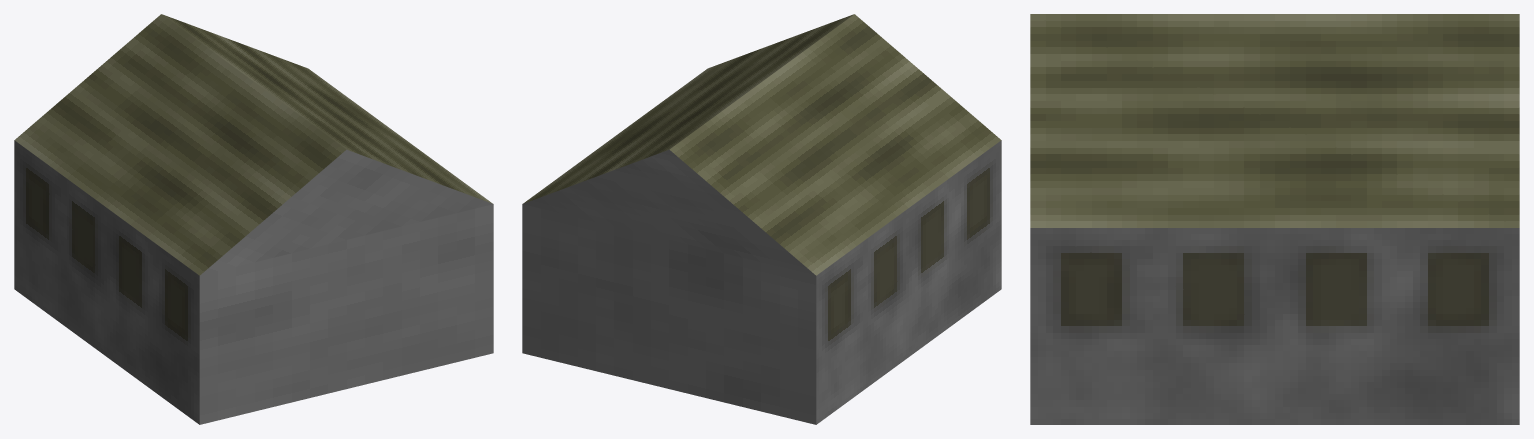
The model's file is warehouse.obj.
3 renders of one model, left to right at view 1: azimuth 30°, elevation 25°; view 2: azimuth 150°, elevation 25°; view 3: azimuth 270°, elevation 25°, orthographic. The views are drawn at different scales.
Parts seen in each view (by area): view 1: Cube_Material_sid; view 2: Cube_Material_sid; view 3: Cube_Material_sid.
Boxes of the visible parts, x1=… form: Cube_Material_sid: x1=14, y1=14, x2=493, y2=424; Cube_Material_sid: x1=522, y1=14, x2=1001, y2=424; Cube_Material_sid: x1=1030, y1=14, x2=1519, y2=424.
Size of the model in its own units: 0.8002 by 0.6232 by 0.8737.
Materials: 3 (3 with a texture image).
